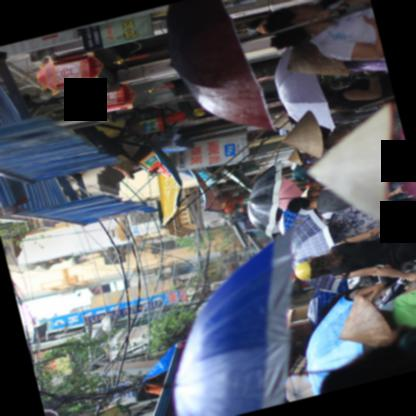handbag: (354, 102, 379, 112)
